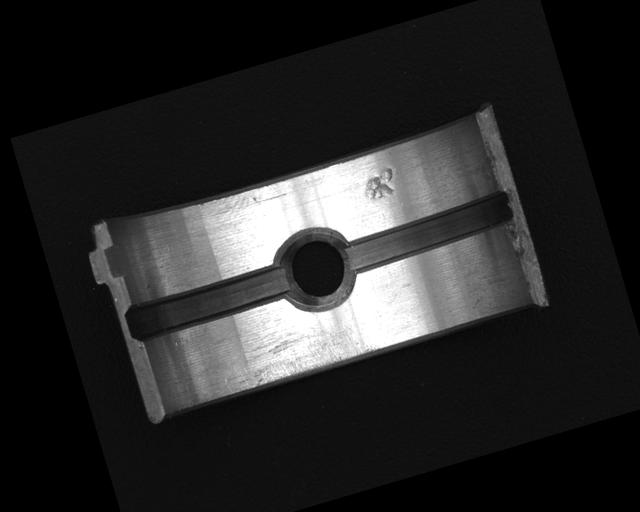bruise: (357, 165, 400, 204)
gap: (335, 184, 520, 277), (122, 259, 296, 344)
hole: (268, 218, 365, 320)
scratch: (213, 304, 382, 397)
